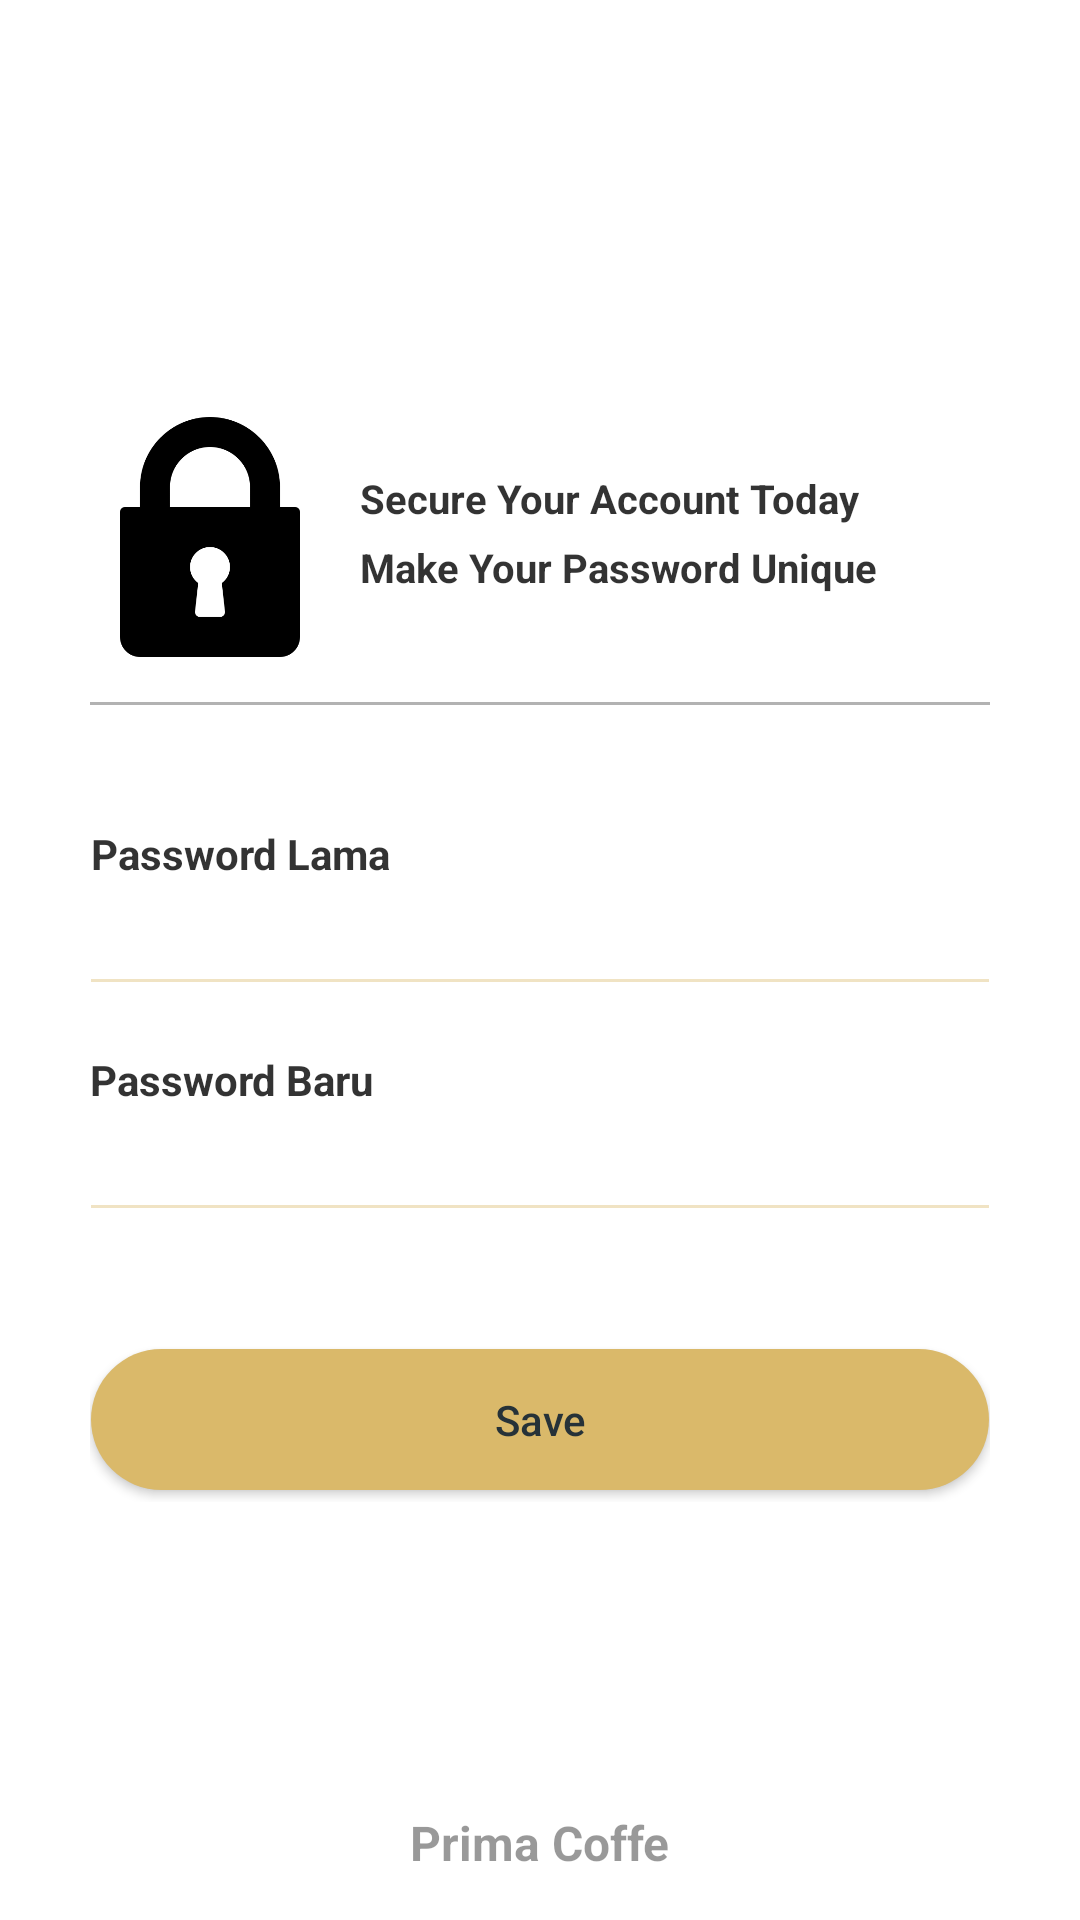

Named icons in this screenshot (1080px x 1920px) and their bounding boxes, (x1, y1, x2, y2):
lock: (120, 417, 300, 657)
